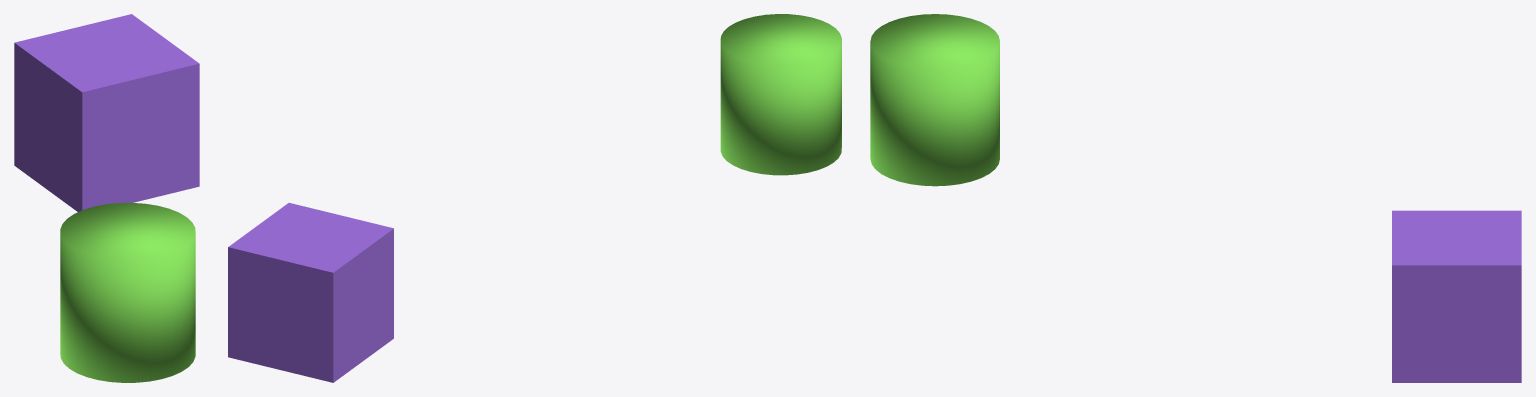
The model's file is test-tags2.glb.
3 views of the same model, side by side, from view 1: azimuth 30°, elevation 25°; view 2: azimuth 150°, elevation 25°; view 3: azimuth 270°, elevation 25° (orthographic). The views are drawn at different scales.
Visible parts, largest first — view 1: Cube, Cylinder; view 2: Cube, Cylinder; view 3: Cube, Cylinder.
Part boxes in pixels (left/top/right/bottom): Cube: left=14, top=14, right=199, bottom=211; Cylinder: left=60, top=203, right=195, bottom=382; Cube: left=228, top=203, right=393, bottom=382; Cylinder: left=720, top=14, right=841, bottom=175; Cube: left=1392, top=210, right=1521, bottom=382; Cylinder: left=870, top=14, right=999, bottom=186.
Bounding box in the file's own units: 6.29 × 3.35 × 10.04.
